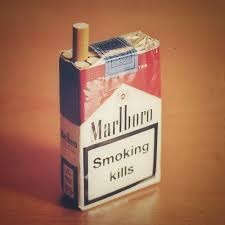marlboro: (81, 68, 163, 199)
